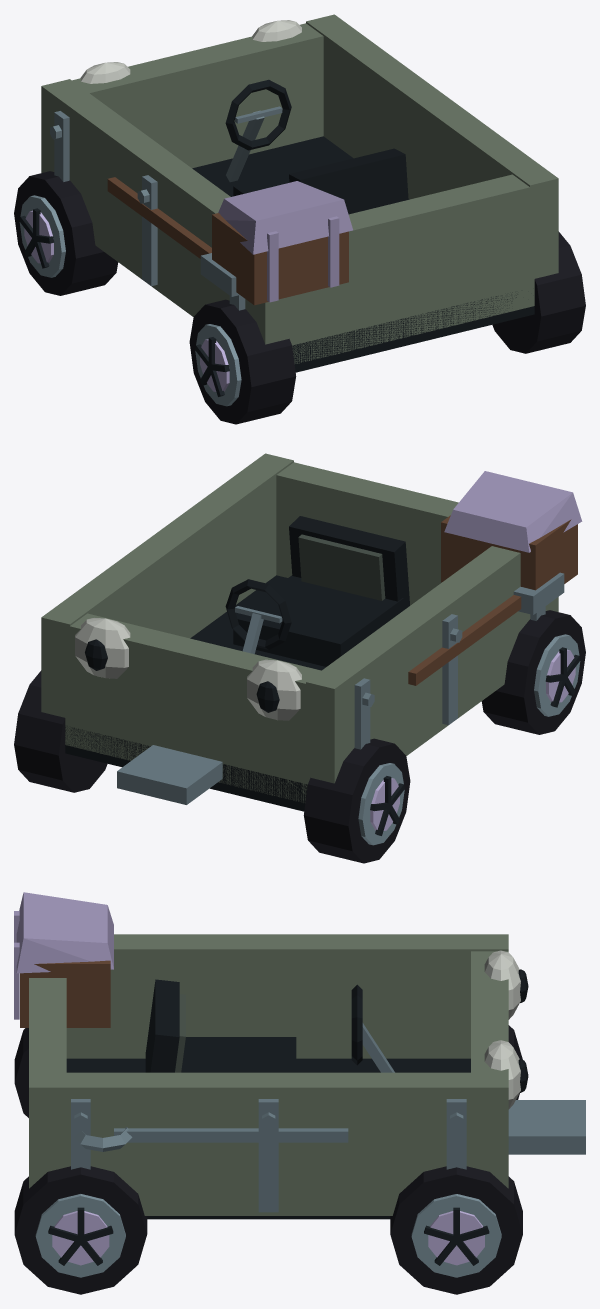
Rendered from kart.glb.
3 views of the same model, one above another, from view 1: azimuth 30°, elevation 25°; view 2: azimuth 150°, elevation 25°; view 3: azimuth 270°, elevation 25° (orthographic). The views are drawn at different scales.
Visible parts, largest first — view 1: identity-minecart-minecart-riveted-open-bin, identity-minecart-motif-treasure, wheel-rear-left, wheel-front-left, identity-minecart-driver-cockpit, wheel-rear-right, identity-minecart-motif-tools, identity-minecart-motif-eyes; view 2: identity-minecart-minecart-riveted-open-bin, identity-minecart-driver-cockpit, identity-minecart-motif-treasure, wheel-front-left, wheel-rear-left, identity-minecart-motif-eyes, wheel-front-right, identity-minecart-motif-tools; view 3: identity-minecart-minecart-riveted-open-bin, wheel-rear-right, wheel-front-right, identity-minecart-motif-treasure, identity-minecart-driver-cockpit, identity-minecart-motif-tools, identity-minecart-motif-eyes, wheel-rear-left.
Part boxes in pixels (x1=…): identity-minecart-minecart-riveted-open-bin: x1=41, y1=14, x2=558, y2=372; identity-minecart-motif-treasure: x1=212, y1=181, x2=352, y2=305; wheel-rear-left: x1=189, y1=299, x2=296, y2=424; wheel-front-left: x1=14, y1=171, x2=118, y2=295; identity-minecart-driver-cockpit: x1=225, y1=79, x2=408, y2=214; wheel-rear-right: x1=492, y1=231, x2=585, y2=353; identity-minecart-motif-tools: x1=107, y1=177, x2=239, y2=296; identity-minecart-motif-eyes: x1=80, y1=20, x2=301, y2=83; identity-minecart-minecart-riveted-open-bin: x1=41, y1=453, x2=558, y2=811; identity-minecart-driver-cockpit: x1=225, y1=516, x2=409, y2=666; identity-minecart-motif-treasure: x1=441, y1=471, x2=582, y2=590; wheel-front-left: x1=303, y1=738, x2=410, y2=863; wheel-rear-left: x1=481, y1=610, x2=585, y2=734; identity-minecart-motif-eyes: x1=75, y1=618, x2=301, y2=720; wheel-front-right: x1=14, y1=670, x2=107, y2=792; identity-minecart-motif-tools: x1=408, y1=572, x2=564, y2=685; identity-minecart-minecart-riveted-open-bin: x1=29, y1=934, x2=585, y2=1219; wheel-rear-right: x1=14, y1=1166, x2=147, y2=1294; wheel-front-right: x1=390, y1=1166, x2=522, y2=1294; identity-minecart-motif-treasure: x1=14, y1=892, x2=113, y2=1027; identity-minecart-driver-cockpit: x1=145, y1=979, x2=394, y2=1072; identity-minecart-motif-tools: x1=73, y1=1127, x2=348, y2=1151; identity-minecart-motif-eyes: x1=484, y1=950, x2=528, y2=1109; wheel-rear-left: x1=14, y1=1028, x2=28, y2=1117.
Size of the model in its own units: 1.99 by 1.16 by 2.59.
